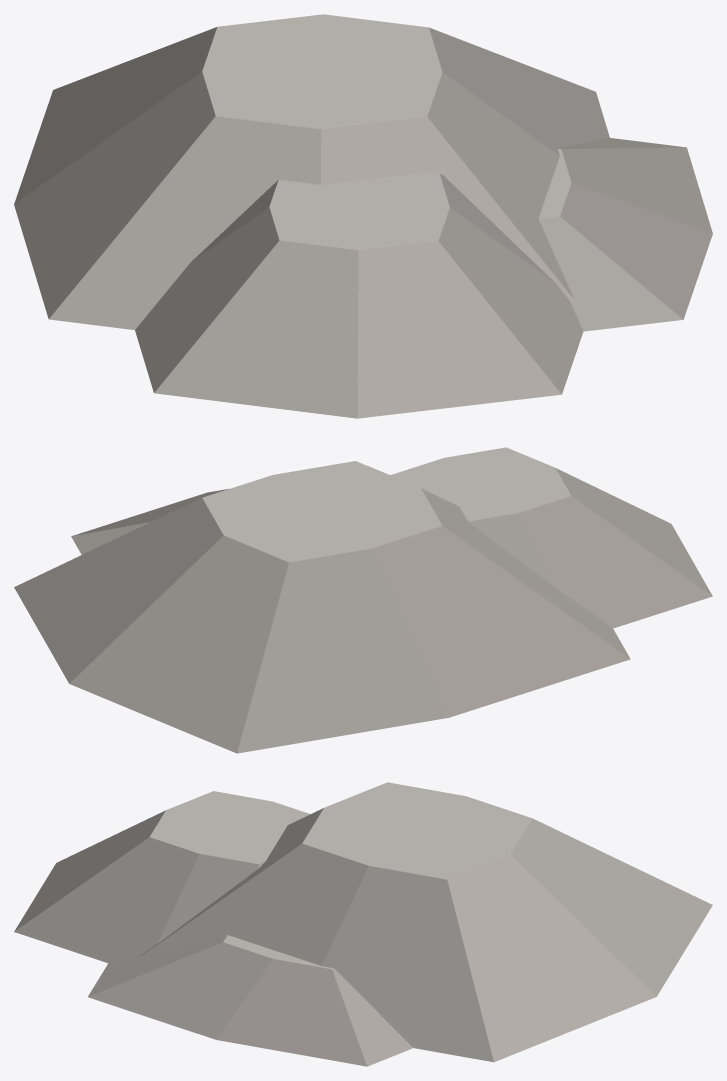
Rendered from SM_Env_Hills_02.fbx.
3 views of the same model, one above another, from view 1: azimuth 30°, elevation 25°; view 2: azimuth 150°, elevation 25°; view 3: azimuth 270°, elevation 25° (orthographic). The views are drawn at different scales.
Parts seen in each view (by area): view 1: SM_Env_Hills_02; view 2: SM_Env_Hills_02; view 3: SM_Env_Hills_02.
Boxes of the visible parts, <box> form: SM_Env_Hills_02: <box>14,14,712,418</box>; SM_Env_Hills_02: <box>14,447,712,753</box>; SM_Env_Hills_02: <box>14,782,712,1066</box>.
Size of the model in its own units: 40.75 by 7.96 by 47.36.
